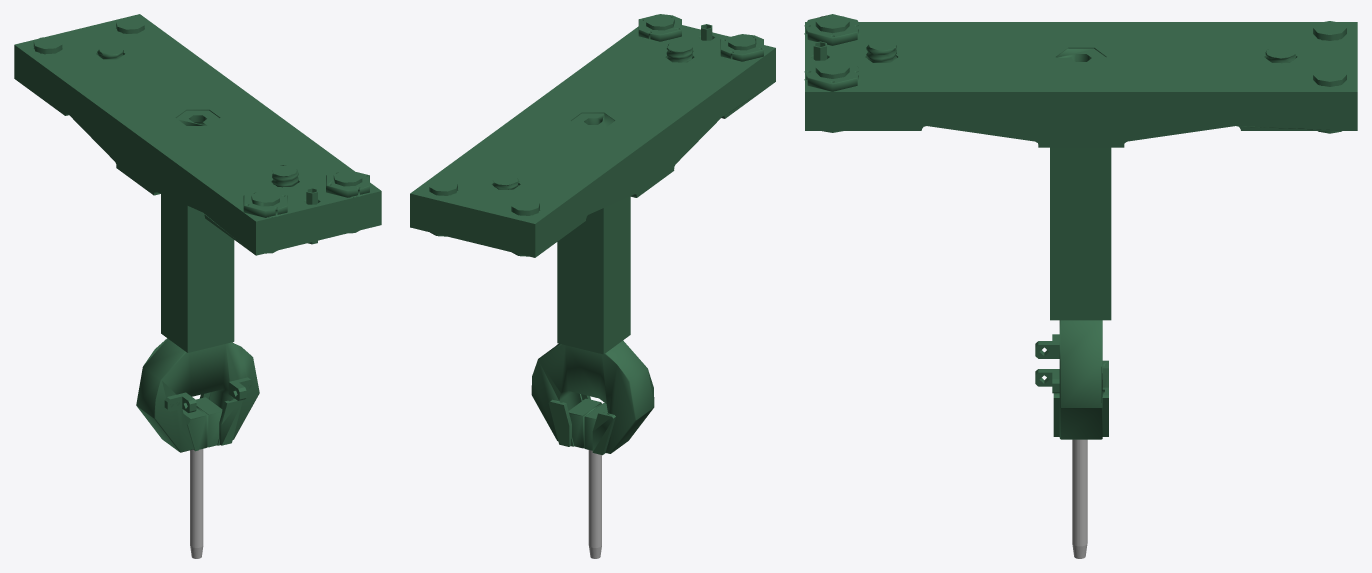
The model's file is Garra.gltf.
3 views of the same model, side by side, from view 1: azimuth 30°, elevation 25°; view 2: azimuth 150°, elevation 25°; view 3: azimuth 270°, elevation 25° (orthographic). The views are drawn at different scales.
Visible parts, largest first — view 1: garra_10961914, Cube.001, Cilindro; view 2: garra_10961914, Cube.001, Cilindro; view 3: garra_10961914, Cube.001, Cilindro.
Part boxes in pixels (x1,y1,x2,y2): garra_10961914: (14, 14, 381, 452); Cube.001: (161, 194, 234, 352); Cilindro: (190, 449, 203, 558); garra_10961914: (410, 14, 775, 455); Cube.001: (557, 196, 630, 354); Cilindro: (588, 450, 601, 558); garra_10961914: (804, 14, 1357, 439); Cube.001: (1050, 147, 1111, 320); Cilindro: (1072, 439, 1087, 558).
Size of the model in its own units: 0.271 by 0.9217 by 0.901.
